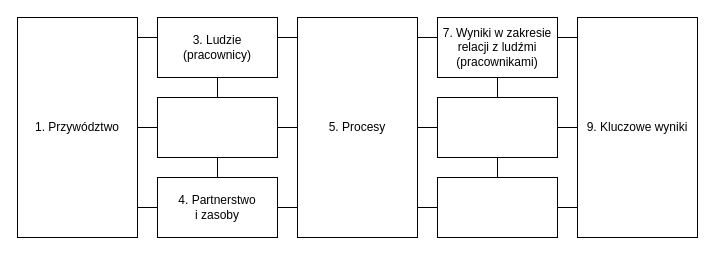
The diagram is 715 pixels wide and 255 high, and some of its shapes have lost their labels. Here are the shapes that lost their labels. From the top down, the centre of each, then its label:
(x=217, y=127): 2. Strategia i planowanie
(x=497, y=127): 6. Wyniki w relacjach z obywatelami (interesariuszami)
(x=497, y=207): 8. Wyniki w zakresie społecznej odpowiedzialności
